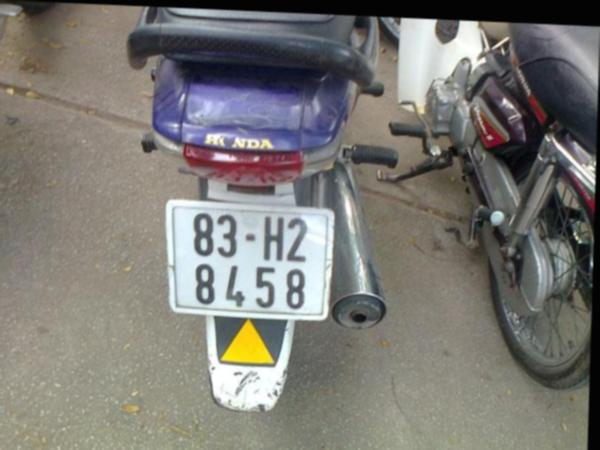License_Plate: (168, 202, 328, 325)
